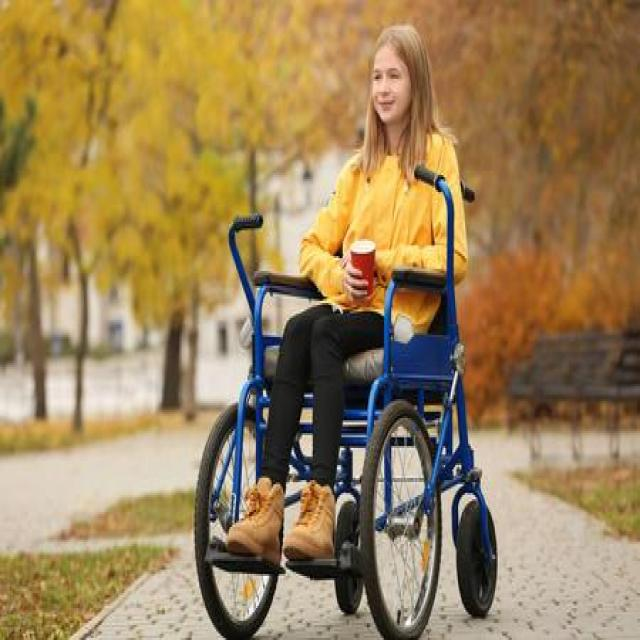wheelchairs: (168, 155, 520, 640)
